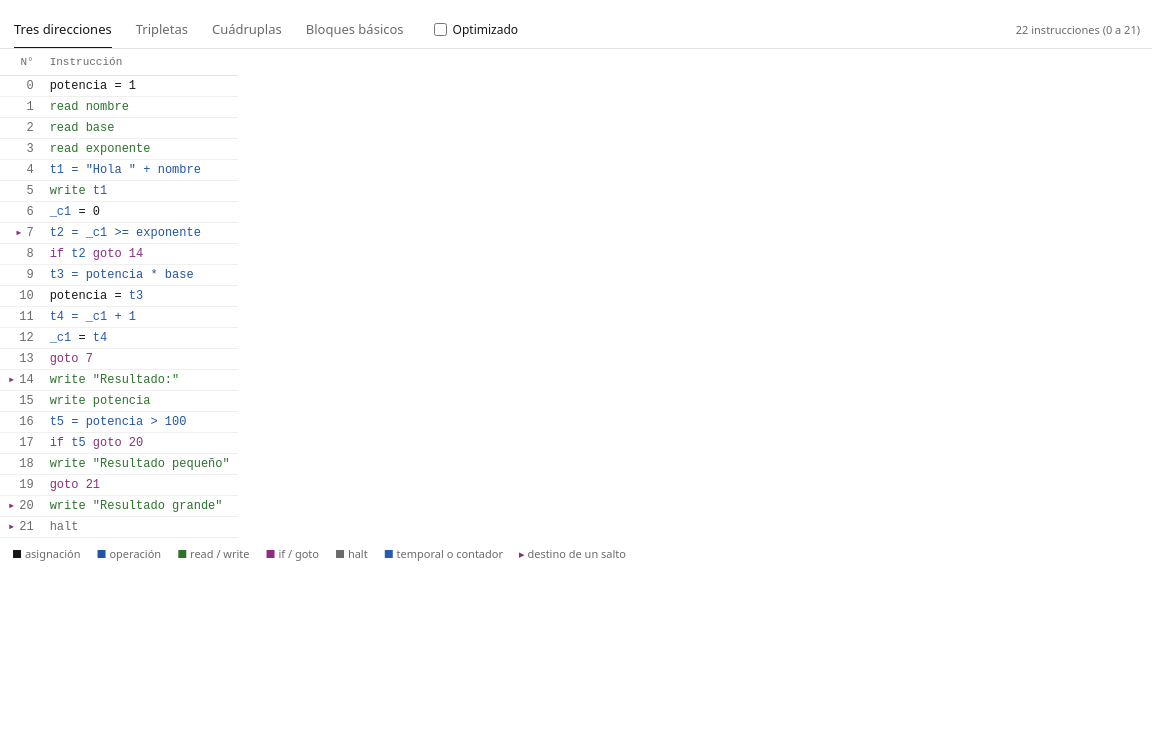
Test: código intermedio optimizado › marcado muestra el código optimizado, la comparación y las pasadas
Click the checkbox labelled "Optimizado". click: (440, 30)
box: [434,23,447,36]
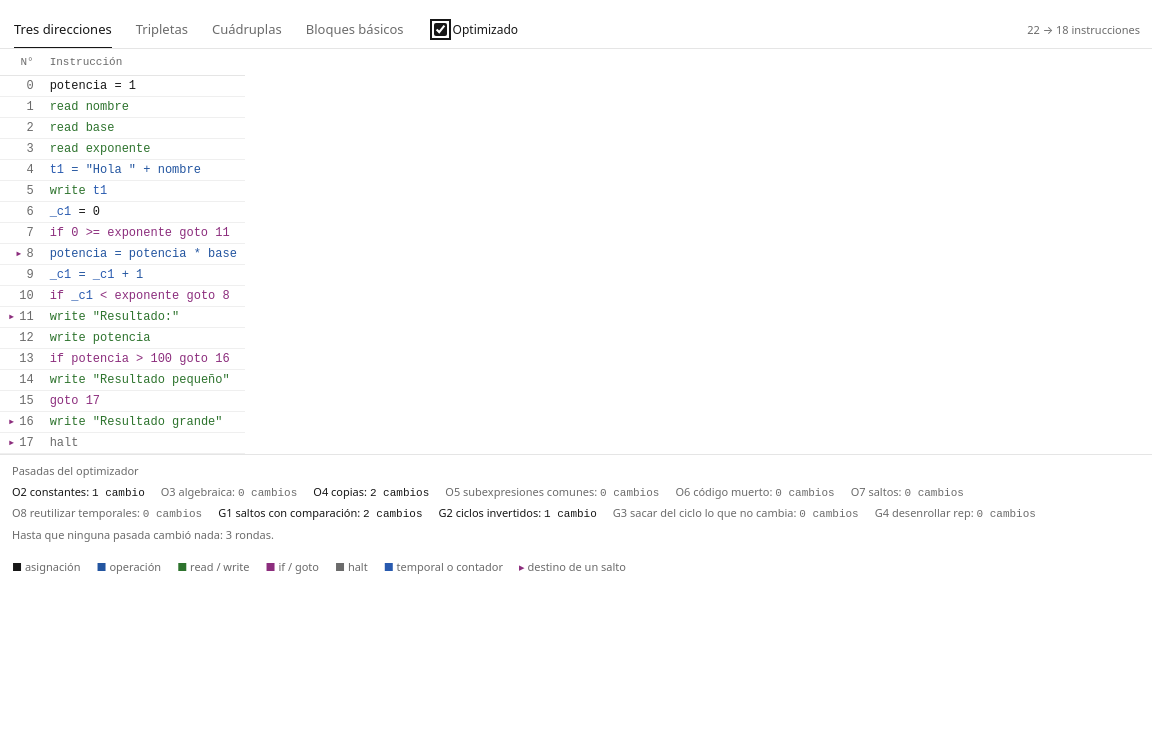
Check: the number of rows is 19
Check: the text "22 → 18 instrucciones" is shown, box [1019,22,1148,38]
Check: the element "Pasadas del optimizador" shows "O4 copias: 2 cambios", box [0,454,1151,551]
